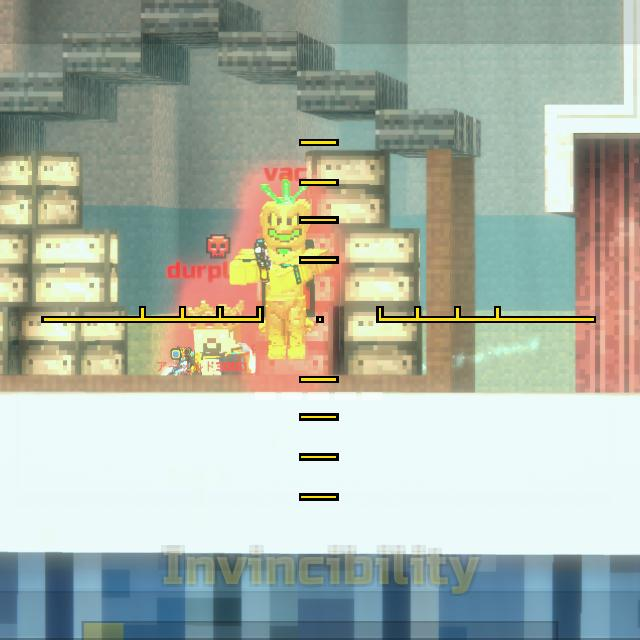Enemy: (231, 200, 336, 363)
